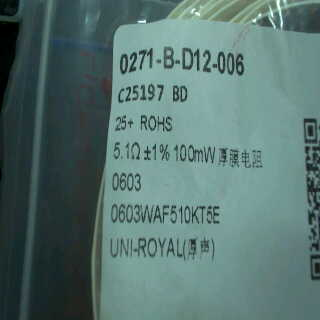5.1R: (109, 138, 140, 163)
